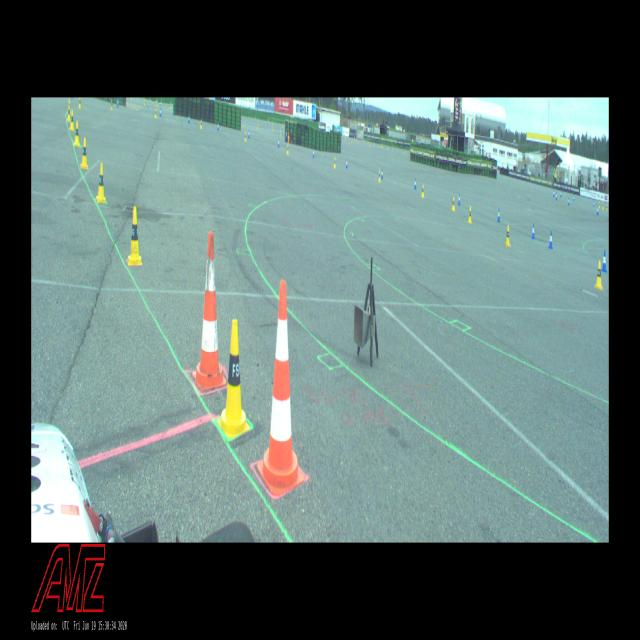blue_cone: (602, 250, 607, 272), (548, 231, 553, 248), (531, 224, 535, 239), (497, 209, 500, 222), (458, 194, 460, 205), (414, 179, 416, 189), (381, 169, 383, 179), (117, 98, 119, 107), (248, 130, 250, 139), (278, 139, 280, 148), (312, 149, 314, 158), (188, 115, 190, 123), (596, 207, 598, 215), (218, 123, 220, 130), (555, 193, 557, 200), (160, 108, 161, 117), (346, 160, 347, 168), (553, 190, 554, 197), (560, 191, 561, 198), (568, 198, 569, 205), (405, 149, 406, 154), (573, 196, 574, 201), (385, 145, 386, 149), (594, 202, 594, 206)
large_orange_cone: (257, 280, 304, 496), (192, 231, 226, 390)
yellow_cone: (217, 320, 250, 438), (128, 207, 142, 265), (96, 163, 108, 204), (594, 260, 603, 290), (80, 138, 88, 168), (74, 121, 80, 146), (505, 225, 510, 246), (70, 111, 74, 130), (468, 206, 471, 222), (452, 197, 455, 211), (421, 185, 424, 198), (378, 170, 381, 182), (68, 105, 70, 121), (244, 132, 247, 142), (111, 99, 113, 110), (79, 98, 81, 109), (334, 158, 336, 168), (286, 144, 288, 154), (200, 120, 202, 129), (155, 109, 157, 118), (602, 202, 604, 210), (598, 202, 600, 208), (606, 205, 608, 210), (280, 132, 282, 136), (144, 100, 145, 106), (157, 101, 158, 106), (170, 105, 171, 109), (171, 104, 172, 108), (243, 122, 244, 126), (344, 138, 345, 142), (349, 142, 350, 146), (404, 150, 405, 154), (345, 137, 346, 141), (380, 144, 381, 148), (382, 144, 383, 147), (354, 136, 355, 139), (370, 144, 370, 148), (388, 146, 388, 150), (352, 138, 352, 142), (356, 139, 356, 143), (358, 140, 358, 144), (368, 141, 368, 144), (393, 148, 393, 151), (397, 148, 397, 152)
